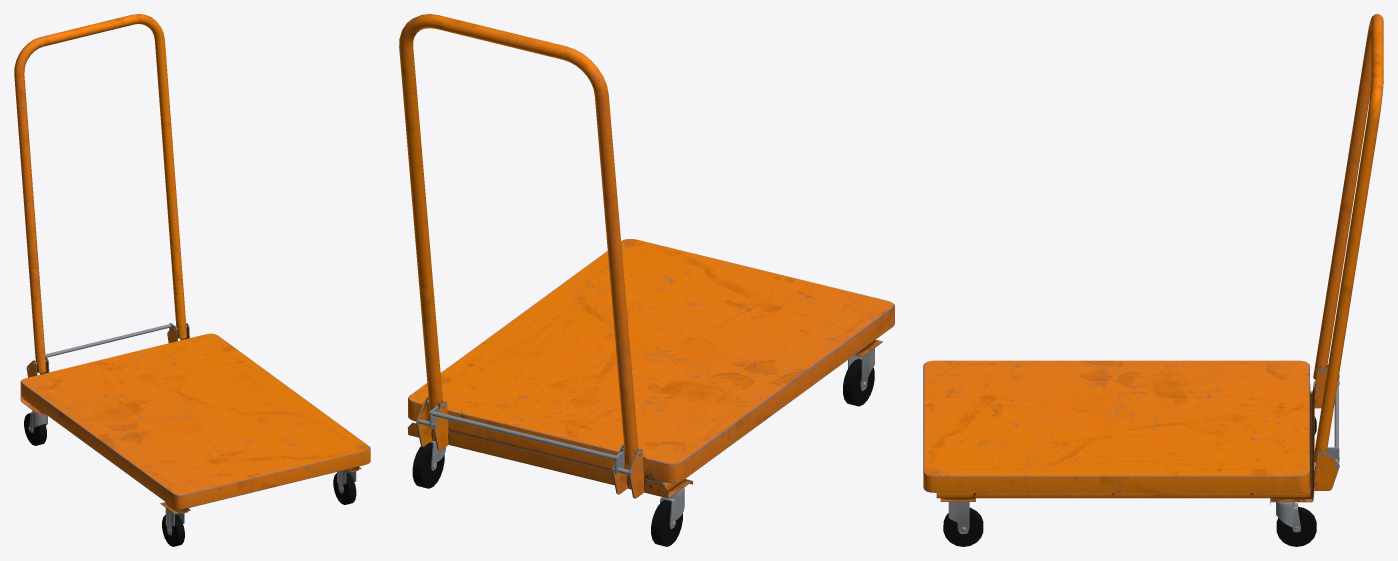
Rendered from Cart.glb.
3 renders of one model, left to right at view 1: azimuth 30°, elevation 25°; view 2: azimuth 150°, elevation 25°; view 3: azimuth 270°, elevation 25°, orthographic. The views are drawn at different scales.
Visible parts, largest first — view 1: Cart; view 2: Cart; view 3: Cart.
Boxes of the visible parts, x1,y1,x2,y2 form: Cart: [14, 14, 370, 546]; Cart: [399, 14, 894, 546]; Cart: [923, 14, 1383, 546].
Bounding box in the file's own units: 0.5605 × 1.01 × 0.9406.
1 material, 1 textured.
